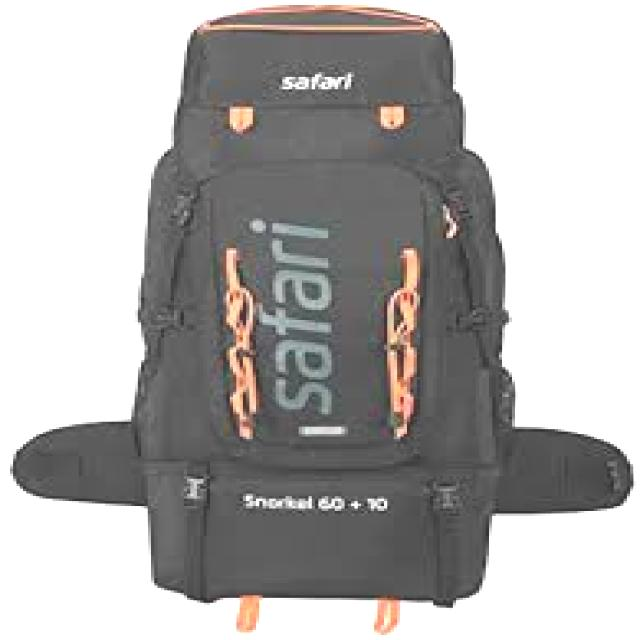backpack: (11, 4, 635, 634)
